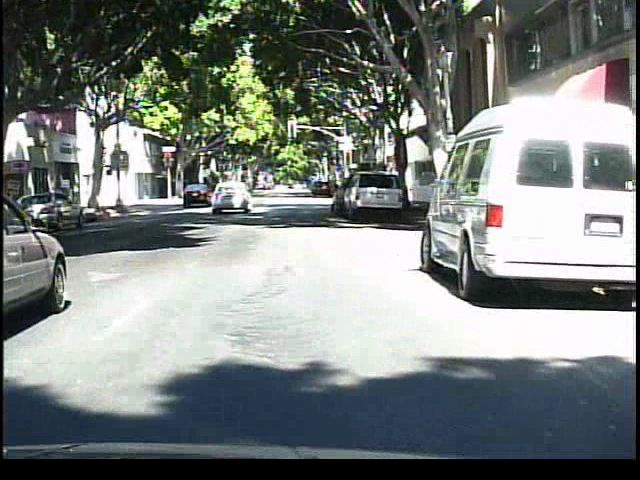person: (220, 171, 242, 207)
